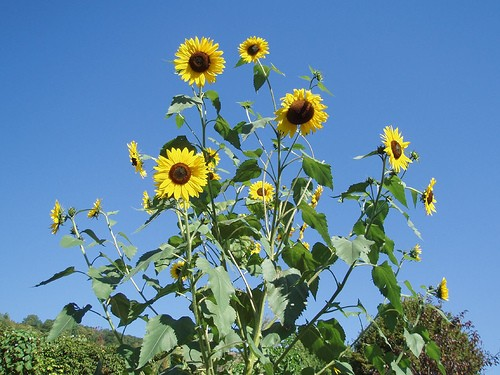flower: (151, 145, 212, 204), (272, 87, 329, 142), (171, 35, 227, 88), (377, 123, 416, 176), (238, 34, 271, 66)
